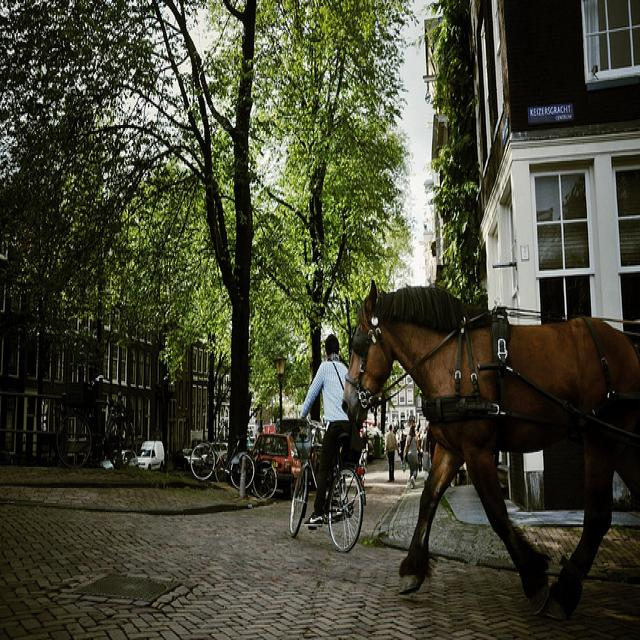Vehicle: (251, 433, 303, 497), (278, 424, 324, 478), (136, 440, 165, 471), (202, 442, 227, 464), (121, 450, 140, 469)
